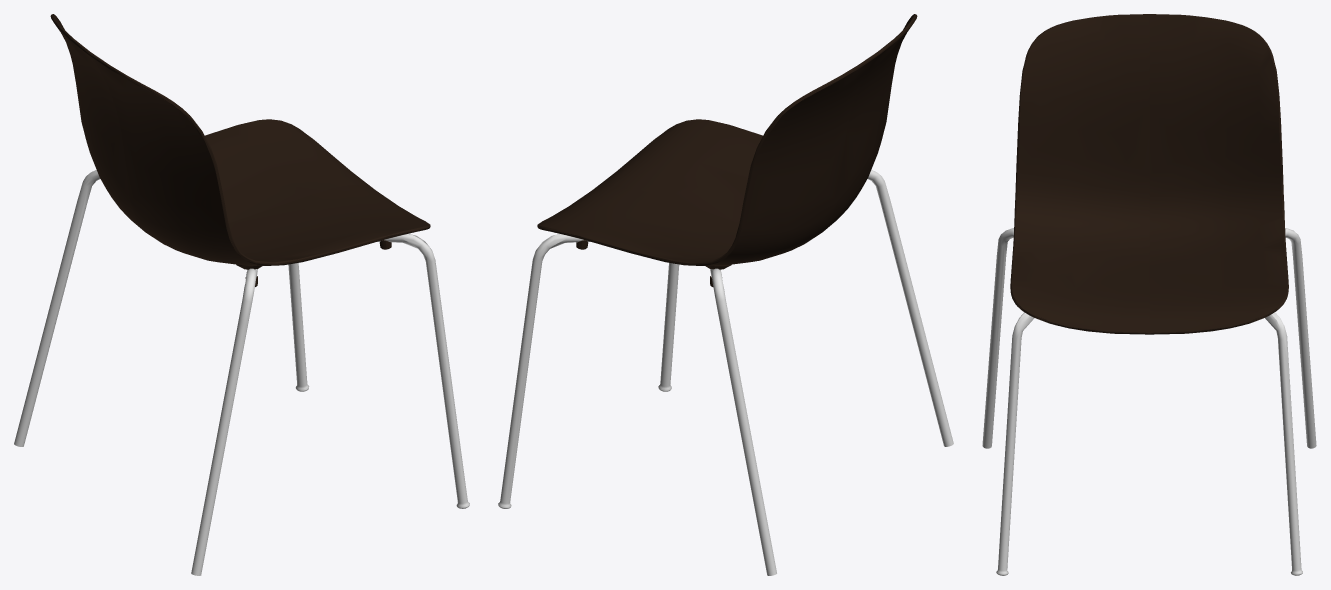
Rendered from Chair.dae.
3 views of the same model, side by side, from view 1: azimuth 30°, elevation 25°; view 2: azimuth 150°, elevation 25°; view 3: azimuth 270°, elevation 25° (orthographic). The views are drawn at different scales.
Parts seen in each view (by area): view 1: group_0 (×3); view 2: group_0 (×3); view 3: group_0 (×3).
Part boxes in pixels (<box>): group_0 (×3): <box>14,14,469,575</box>; group_0 (×3): <box>498,14,953,575</box>; group_0 (×3): <box>982,14,1316,575</box>.
Bounding box in the file's own units: 472 × 495 × 702.
